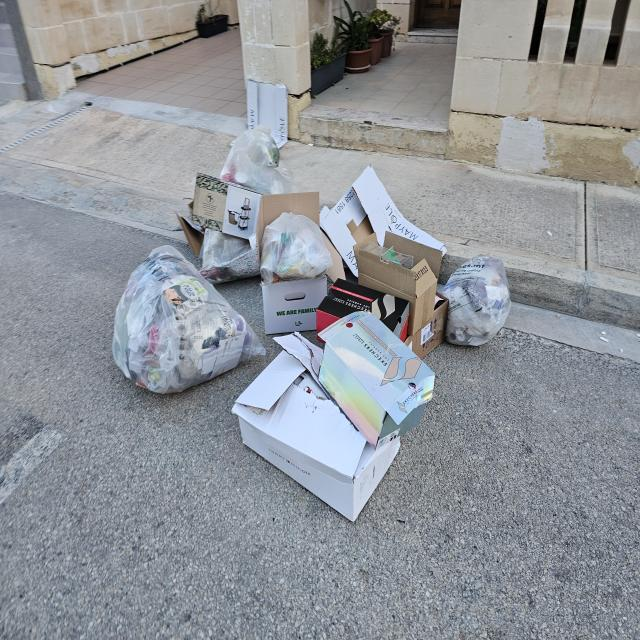grey_bag: (111, 243, 267, 395), (437, 254, 513, 348), (220, 126, 302, 193)
other_waste: (234, 309, 434, 522), (318, 164, 449, 339), (258, 194, 326, 333), (175, 191, 263, 271), (243, 80, 290, 129)
